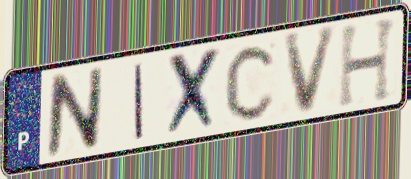C: (223, 41, 280, 123)
H: (336, 14, 400, 111)
I: (132, 61, 146, 142)
N: (44, 64, 106, 160)
V: (281, 23, 341, 119)
X: (163, 43, 224, 141)
